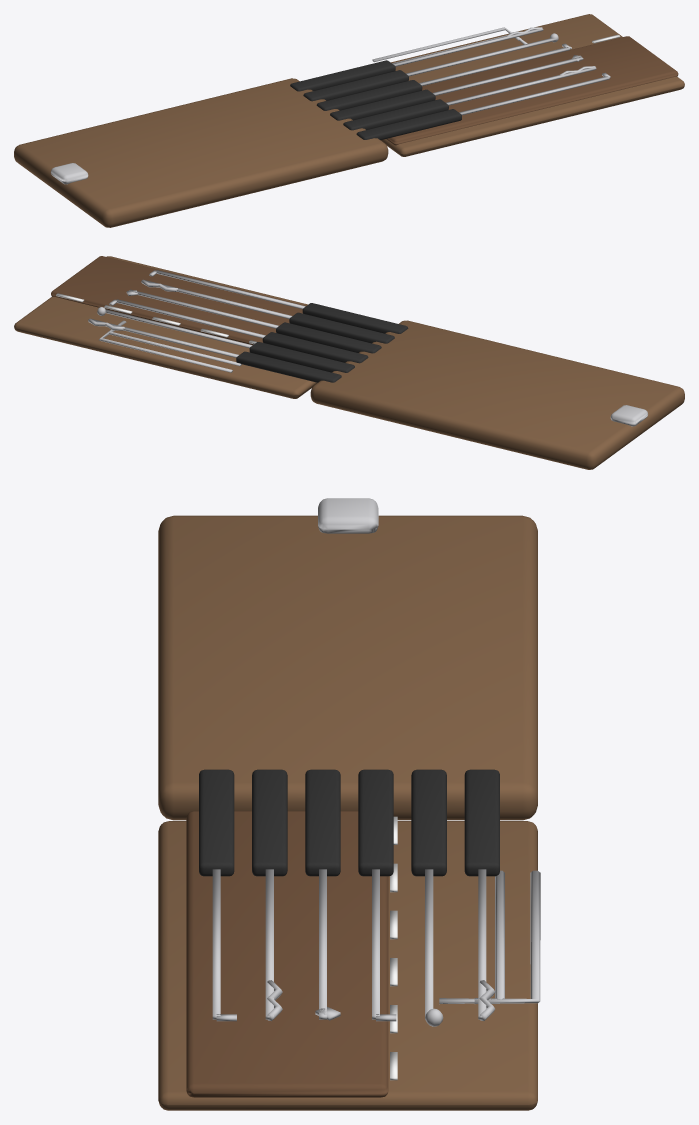
Rendered from SM_Lockpick.glb.
The picture shows the model from 3 angles, top to bottom: view 1: azimuth 30°, elevation 25°; view 2: azimuth 150°, elevation 25°; view 3: azimuth 270°, elevation 25°; orthographic projection. The views are drawn at different scales.
Visible parts, largest first — view 1: SM_Lockpick; view 2: SM_Lockpick; view 3: SM_Lockpick.
Boxes of the visible parts, left/top/right/bottom form: SM_Lockpick: left=14, top=14, right=684, bottom=227; SM_Lockpick: left=14, top=256, right=684, bottom=469; SM_Lockpick: left=158, top=498, right=540, bottom=1110.
Size of the model in its own units: 0.266 by 0.011 by 0.0755.
